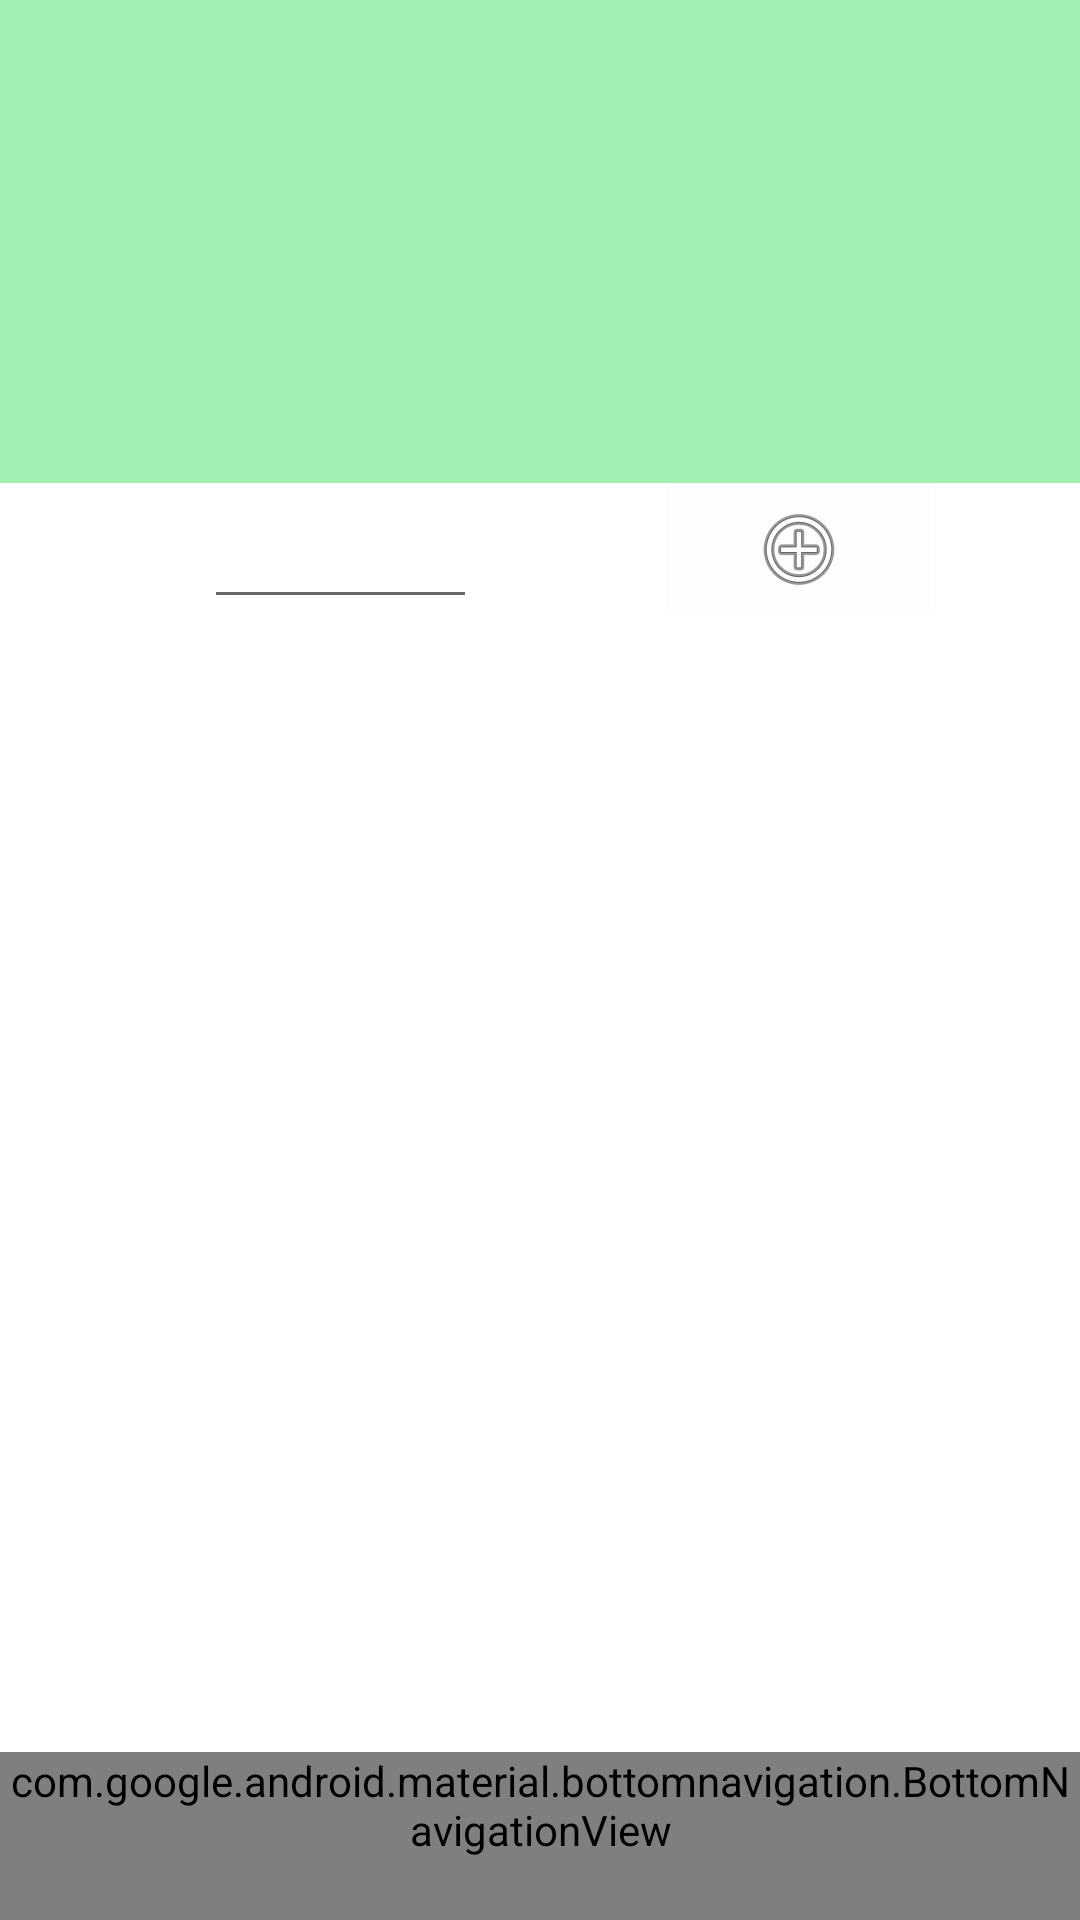

Where icons sit on this 1080x1920 app screen, as (x1, y1, x2, y2):
add: (763, 514, 835, 585)
